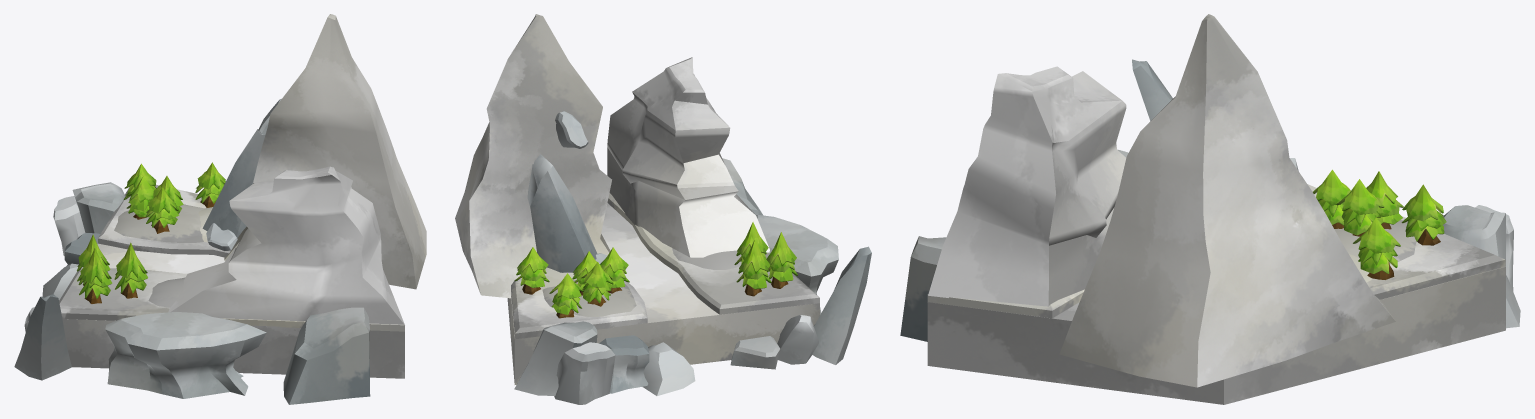
The model's file is biome_montagne.fbx.
3 renders of one model, left to right at view 1: azimuth 30°, elevation 25°; view 2: azimuth 150°, elevation 25°; view 3: azimuth 270°, elevation 25°, orthographic. The views are drawn at different scales.
Visible parts, largest first — view 1: montagne, montagne1, Callioux_61, Sol_1, Callioux_66, sol_montagne, Callioux_70, Callioux_58, sol_montagne1, sol1, Callioux_69, Callioux_60 (+10 smaller); view 2: montagne1, montagne, Sol_1, sol_montagne, Callioux_58, Callioux_70, sol_montagne1, Callioux_69, Callioux_60, Callioux_61, Callioux_67, Callioux_59 (+13 smaller); view 3: montagne1, montagne, Sol_1, sol_montagne1, Callioux_69, Callioux_66, sol_montagne, Callioux_70, sol1, sapin58, sapin54, sapin46 (+2 smaller).
Boxes of the visible parts, box(x1,y1,x2,y2) form: montagne: box(168, 166, 404, 324); montagne1: box(224, 14, 426, 289); Callioux_61: box(105, 312, 266, 398); Sol_1: box(62, 243, 404, 378); Callioux_66: box(283, 307, 370, 404); sol_montagne: box(59, 268, 404, 331); Callioux_70: box(14, 294, 71, 380); Callioux_58: box(202, 129, 265, 238); sol_montagne1: box(98, 184, 230, 257); sol1: box(114, 204, 204, 242); Callioux_69: box(72, 182, 124, 233); Callioux_60: box(53, 196, 85, 255); montagne1: box(455, 14, 611, 298); montagne: box(607, 57, 769, 257); Sol_1: box(507, 203, 819, 384); sol_montagne: box(607, 193, 819, 314); Callioux_58: box(527, 154, 597, 272); Callioux_70: box(812, 246, 871, 364); sol_montagne1: box(511, 278, 647, 339); Callioux_69: box(514, 321, 597, 395); Callioux_60: box(554, 342, 615, 404); Callioux_61: box(756, 215, 838, 314); Callioux_67: box(642, 342, 695, 395); Callioux_59: box(599, 335, 649, 393); montagne1: box(1059, 14, 1395, 387); montagne: box(928, 66, 1126, 306); Sol_1: box(927, 184, 1505, 404); sol_montagne1: box(1366, 216, 1505, 299); Callioux_69: box(1443, 205, 1520, 328); Callioux_66: box(900, 236, 946, 341); sol_montagne: box(927, 289, 1084, 318); Callioux_70: box(1132, 59, 1172, 120); sol1: box(1334, 220, 1416, 264); sapin58: box(1353, 218, 1400, 253); sapin54: box(1336, 179, 1384, 214); sapin46: box(1402, 184, 1443, 221).
Size of the model in its own units: 13.32 by 9.21 by 13.23.
